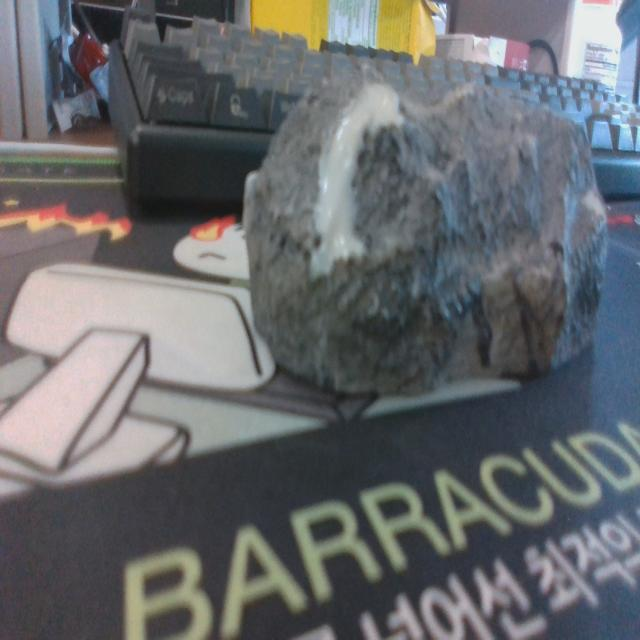stone: (240, 72, 608, 397)
